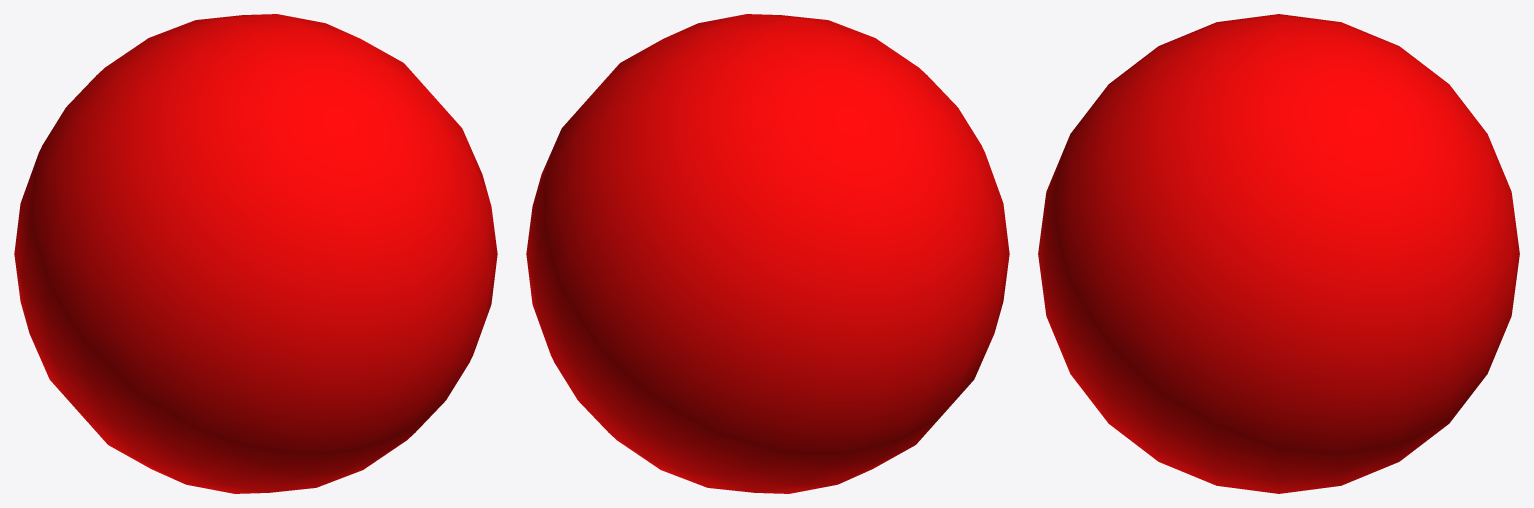
The model's file is Sun.fbx.
3 views of the same model, side by side, from view 1: azimuth 30°, elevation 25°; view 2: azimuth 150°, elevation 25°; view 3: azimuth 270°, elevation 25° (orthographic).
Parts seen in each view (by area): view 1: Model; view 2: Model; view 3: Model.
Boxes of the visible parts, <box> form: Model: <box>14,14,497,493</box>; Model: <box>526,14,1009,493</box>; Model: <box>1038,14,1519,493</box>.
Bounding box in the file's own units: 9084 × 9084 × 9084.
